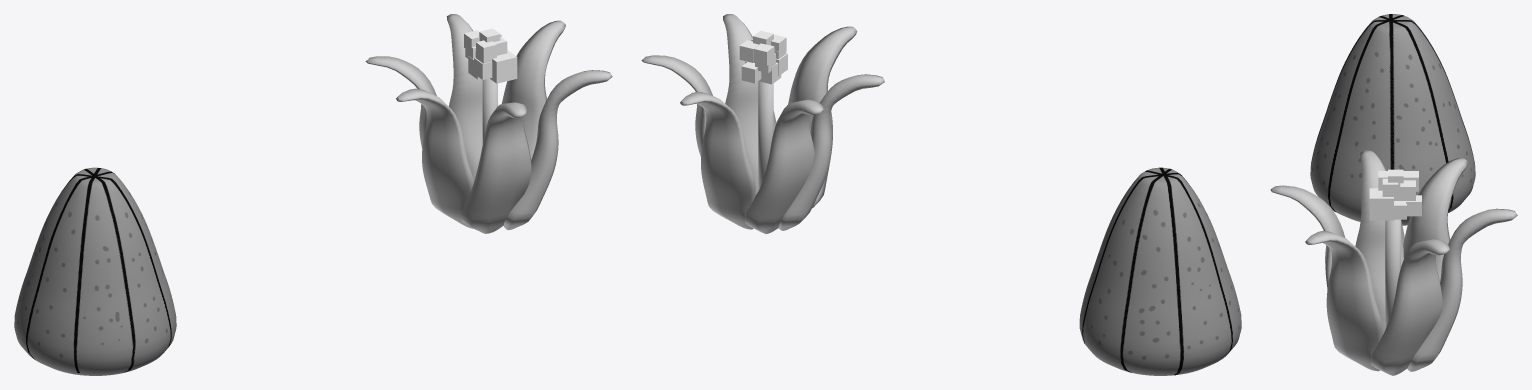
File: Blue Alien Plant.obj
3 views of the same model, side by side, from view 1: azimuth 30°, elevation 25°; view 2: azimuth 150°, elevation 25°; view 3: azimuth 270°, elevation 25° (orthographic).
Parts seen in each view (by area): view 1: flower_1, flower_2, Cube; view 2: flower_1, flower_2, Cube; view 3: flower_2, flower_1, Cube.
Boxes of the visible parts, x1,y1,x2,y2 form: flower_1: (14,167,176,375); flower_2: (365,14,612,233); Cube: (464,28,517,83); flower_1: (1079,167,1241,375); flower_2: (641,14,884,233); Cube: (739,30,787,84); flower_2: (1270,150,1517,375); flower_1: (1310,14,1475,225); Cube: (1369,169,1421,220).
Bounding box in the file's own units: 10.43 × 4.02 × 3.89.
